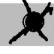not correct: (7, 0, 54, 45)
